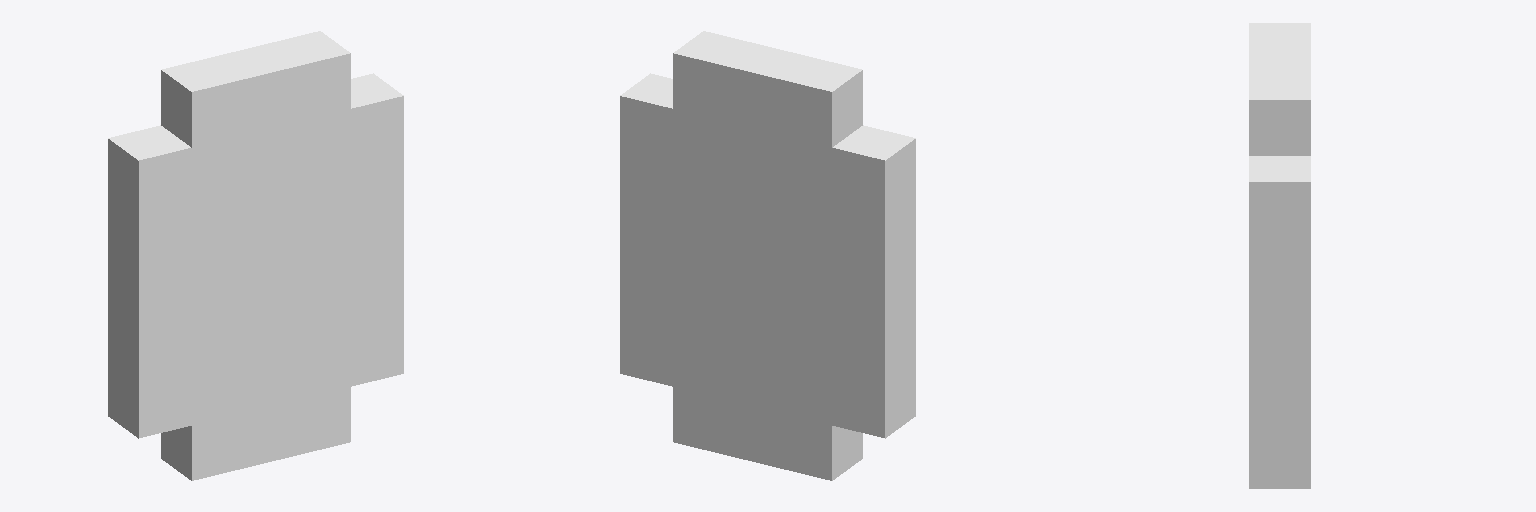
Rendered from EyeBlink-07.obj.
The picture shows the model from 3 angles: view 1: azimuth 30°, elevation 25°; view 2: azimuth 150°, elevation 25°; view 3: azimuth 270°, elevation 25°; orthographic projection.
Bounding box in the file's own units: 5 × 7 × 1.